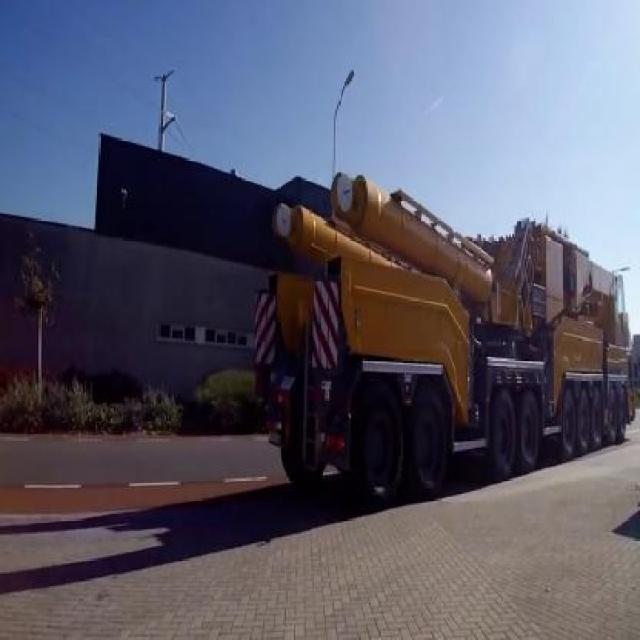Mobile Crane: (254, 176, 632, 502)
